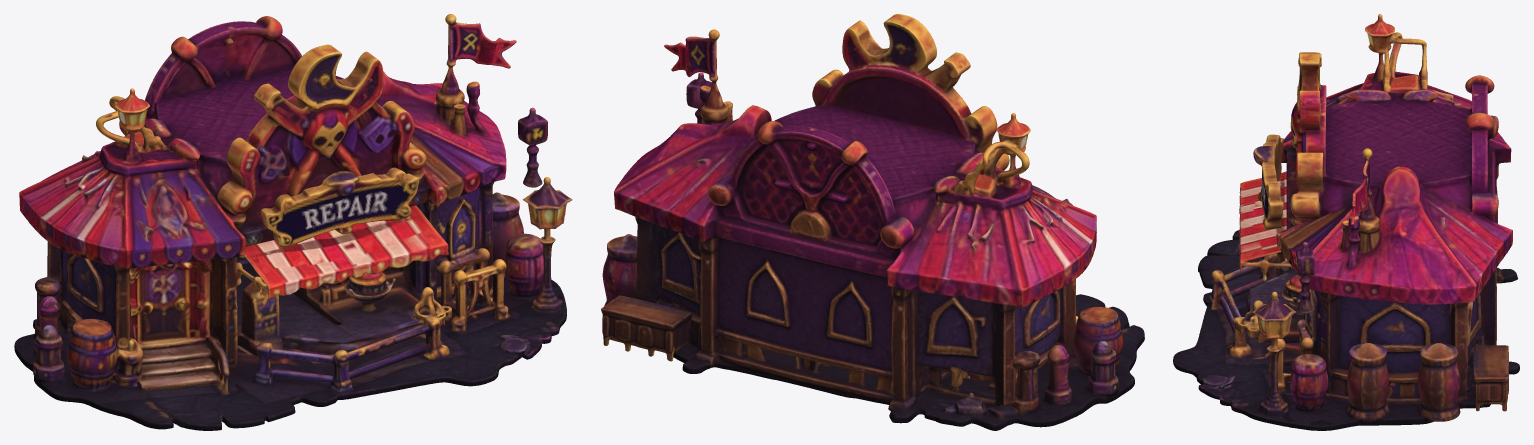
File: Meshy_AI_Midnight_Pirate_Repai_1022090217_texture.fbx
3 views of the same model, side by side, from view 1: azimuth 30°, elevation 25°; view 2: azimuth 150°, elevation 25°; view 3: azimuth 270°, elevation 25° (orthographic). The views are drawn at different scales.
Visible parts, largest first — view 1: Mesh_0; view 2: Mesh_0; view 3: Mesh_0.
Boxes of the visible parts, x1,y1,x2,y2 form: Mesh_0: [14, 14, 572, 430]; Mesh_0: [601, 14, 1144, 430]; Mesh_0: [1173, 14, 1519, 430].
Bounding box in the file's own units: 190 × 111 × 128.
1 material, 1 textured.
